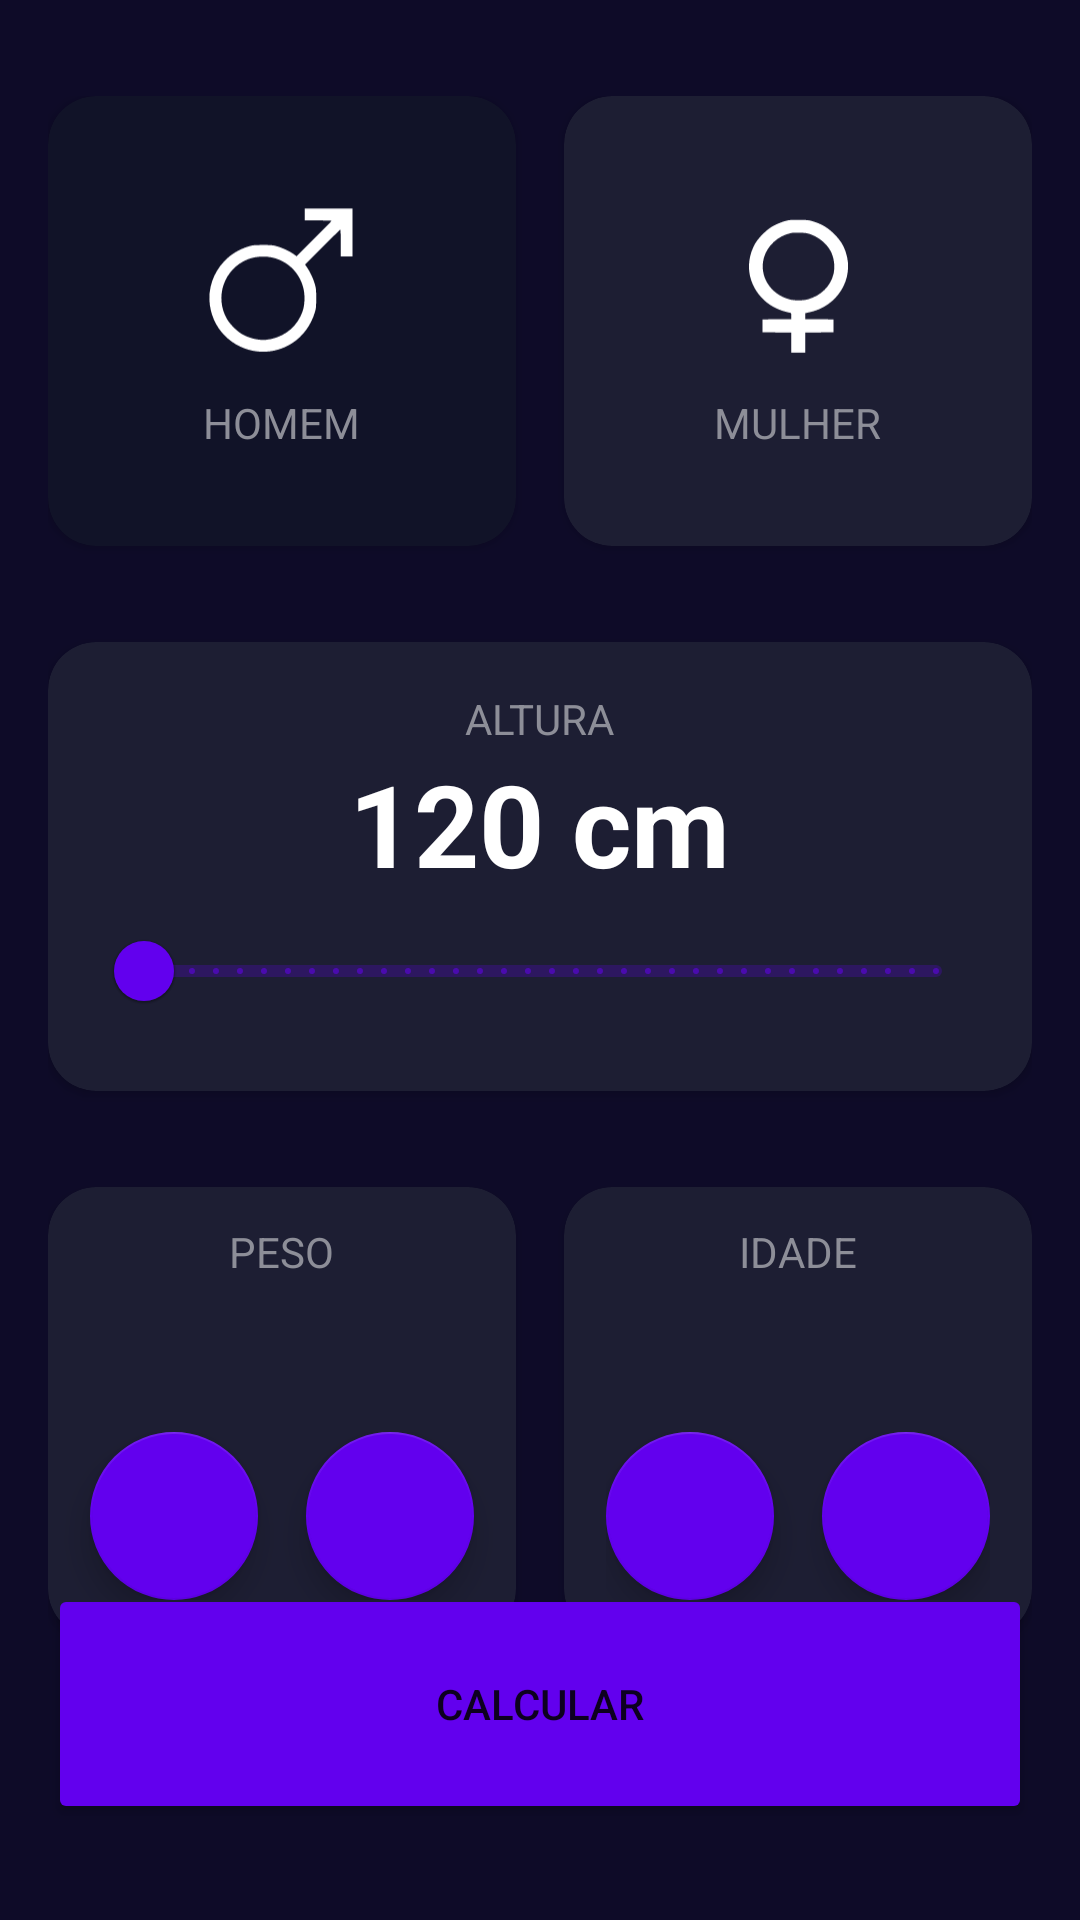

Point at icon controls on the screen. Image size 1080×1920, points as point (x, y).
female: point (798, 286)
male: point (281, 280)
